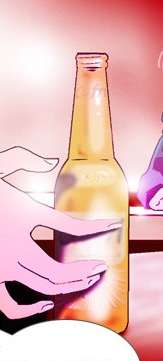bottle: (49, 49, 132, 337)
